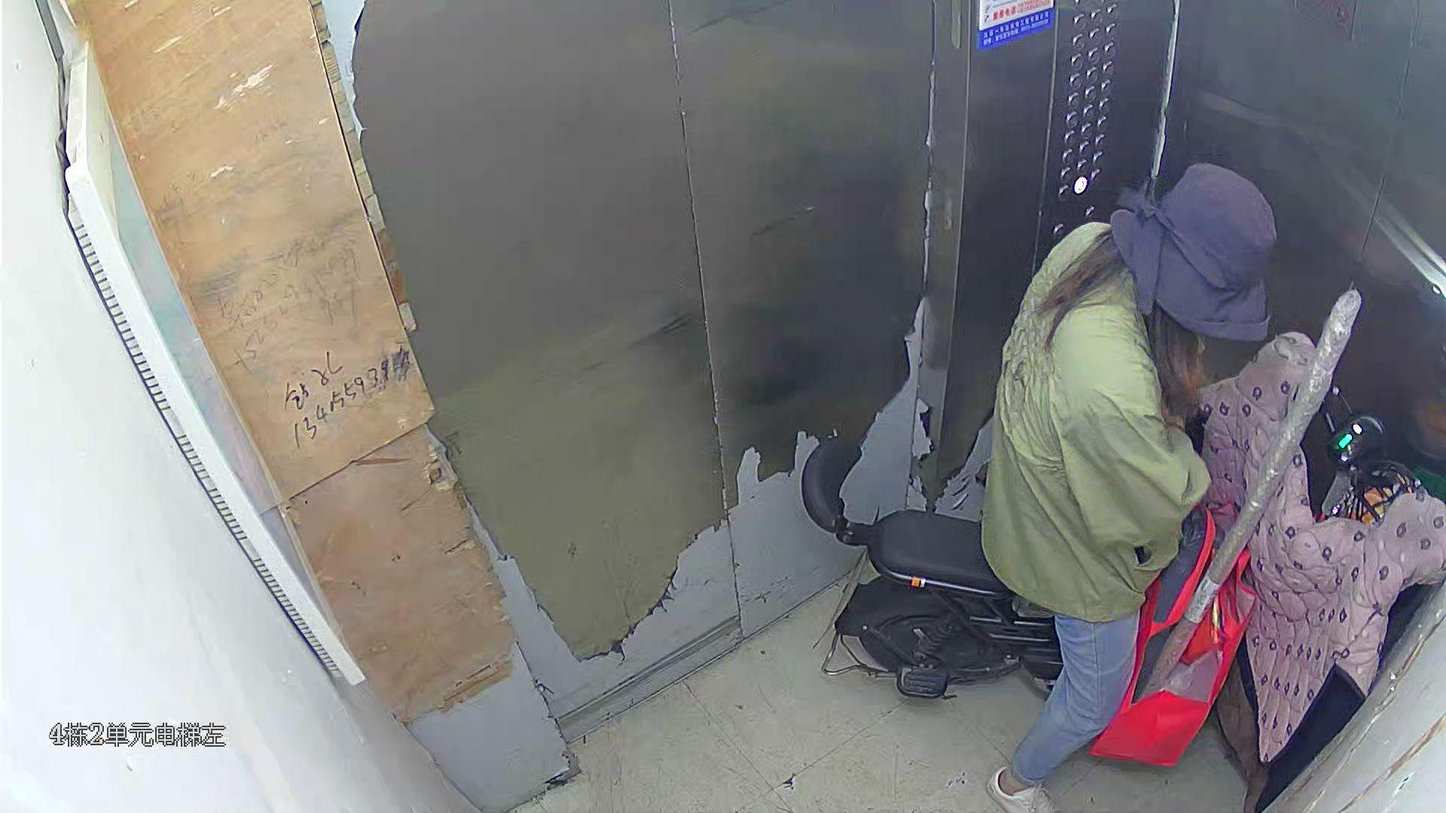Electric-bicycle: (802, 332, 1441, 723)
